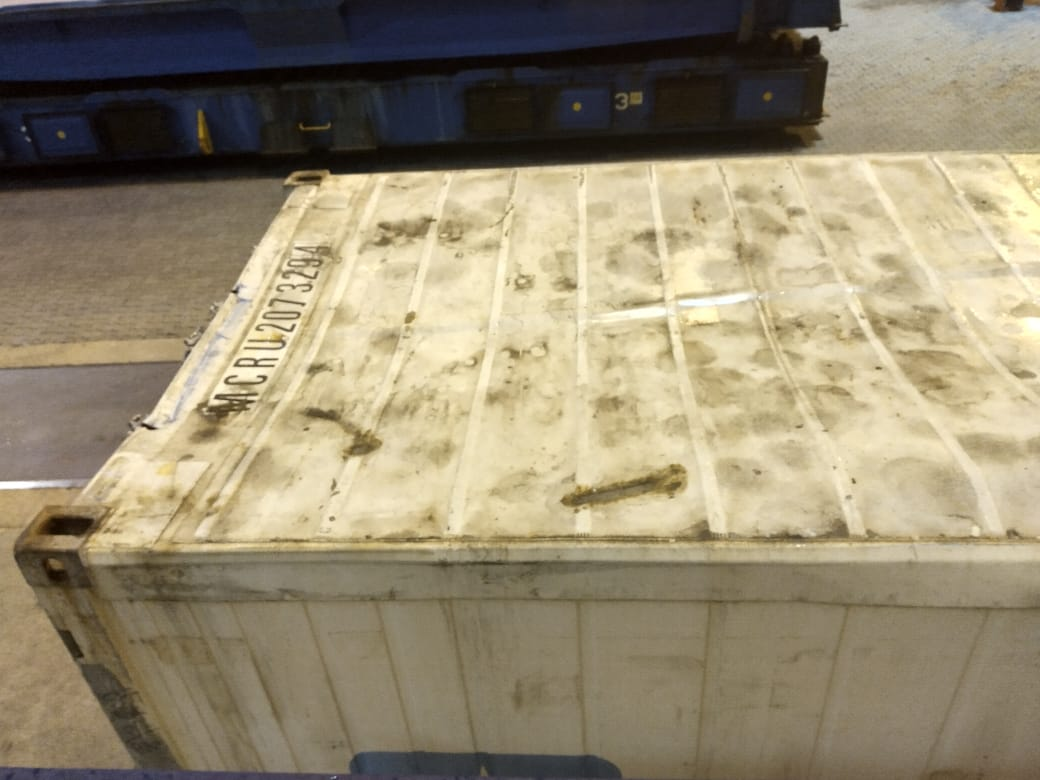severe: (123, 403, 185, 442)
